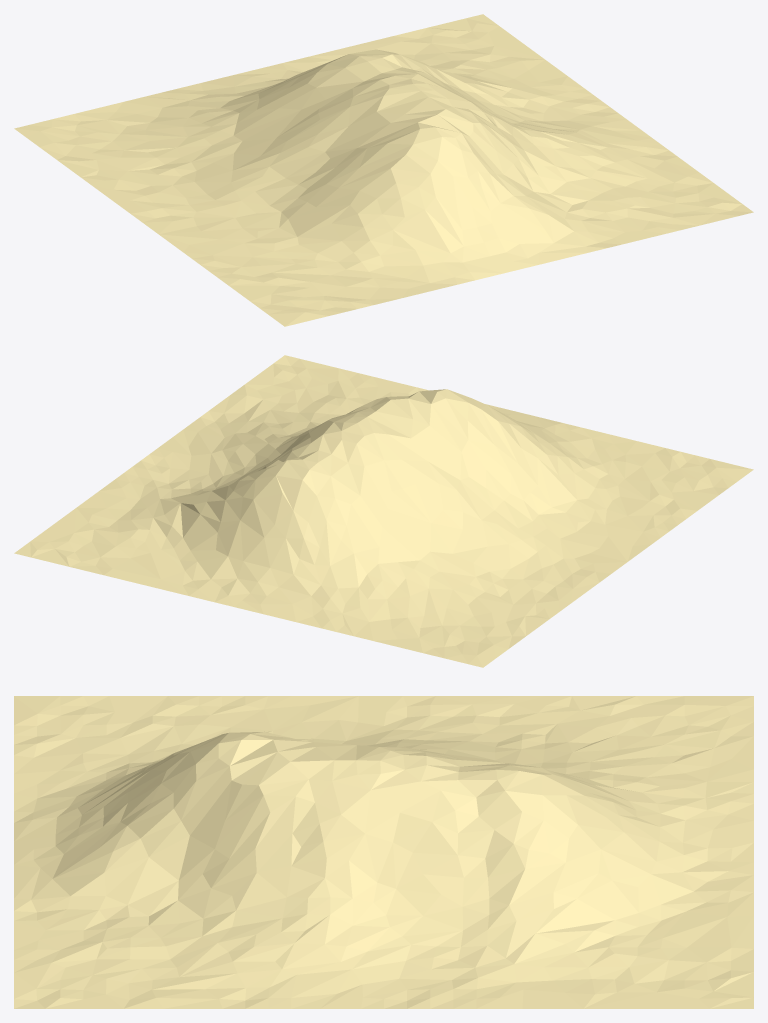
The model's file is Terrain_m_07.fbx.
The picture shows the model from 3 angles, top to bottom: view 1: azimuth 30°, elevation 25°; view 2: azimuth 150°, elevation 25°; view 3: azimuth 270°, elevation 25°; orthographic projection. The views are drawn at different scales.
Visible parts, largest first — view 1: Terrain_m_07; view 2: Terrain_m_07; view 3: Terrain_m_07.
Boxes of the visible parts, box(x1,y1,x2,y2) form: Terrain_m_07: box(14, 14, 753, 326); Terrain_m_07: box(14, 355, 753, 667); Terrain_m_07: box(14, 696, 753, 1008).
Size of the model in its own units: 10000 by 1692 by 10000.
